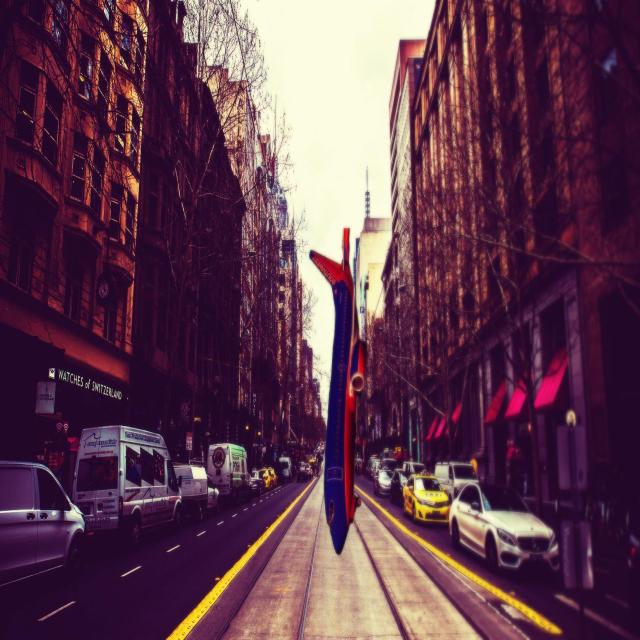airplane: (308, 226, 366, 554)
